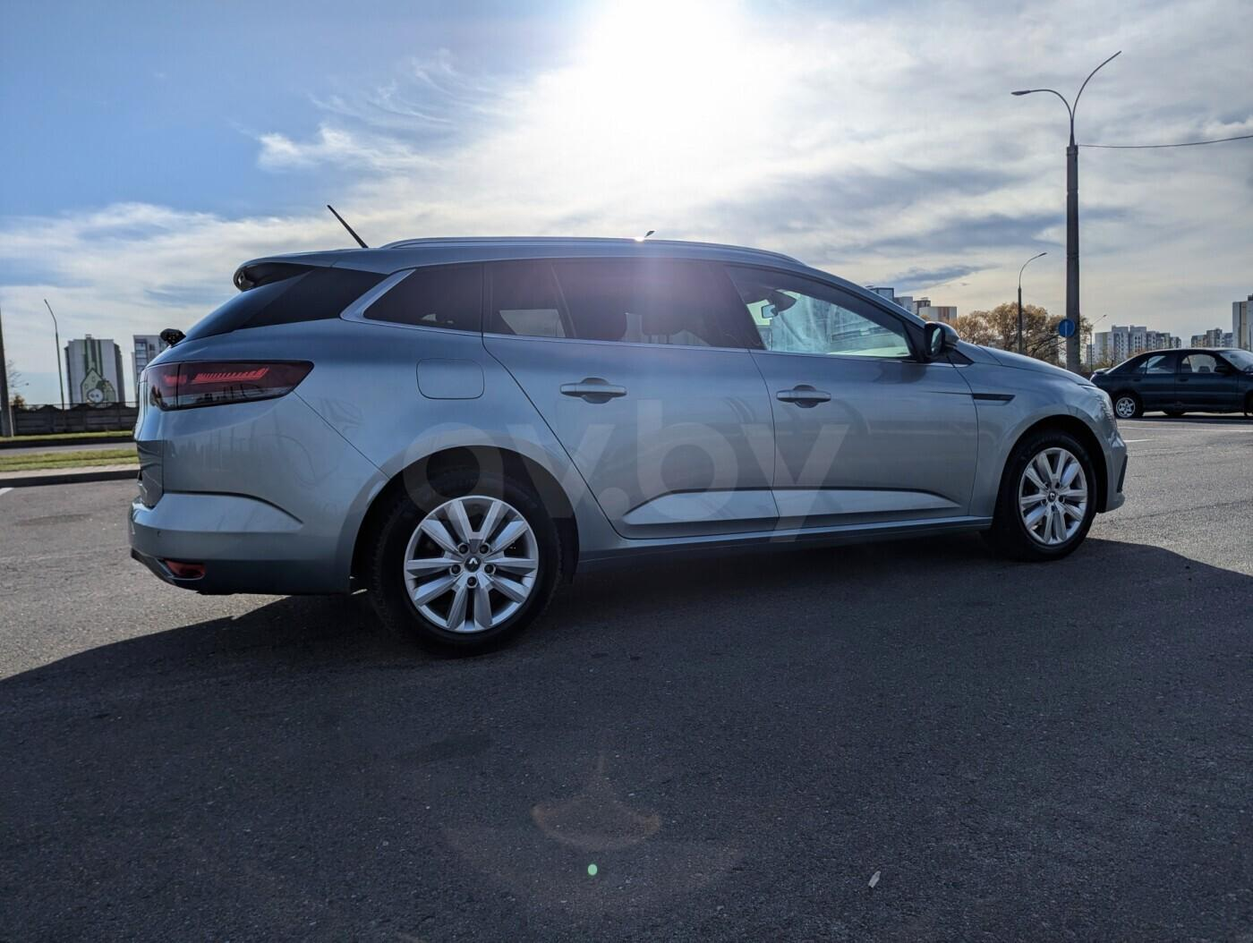Megane_2020: (119, 226, 1128, 651)
